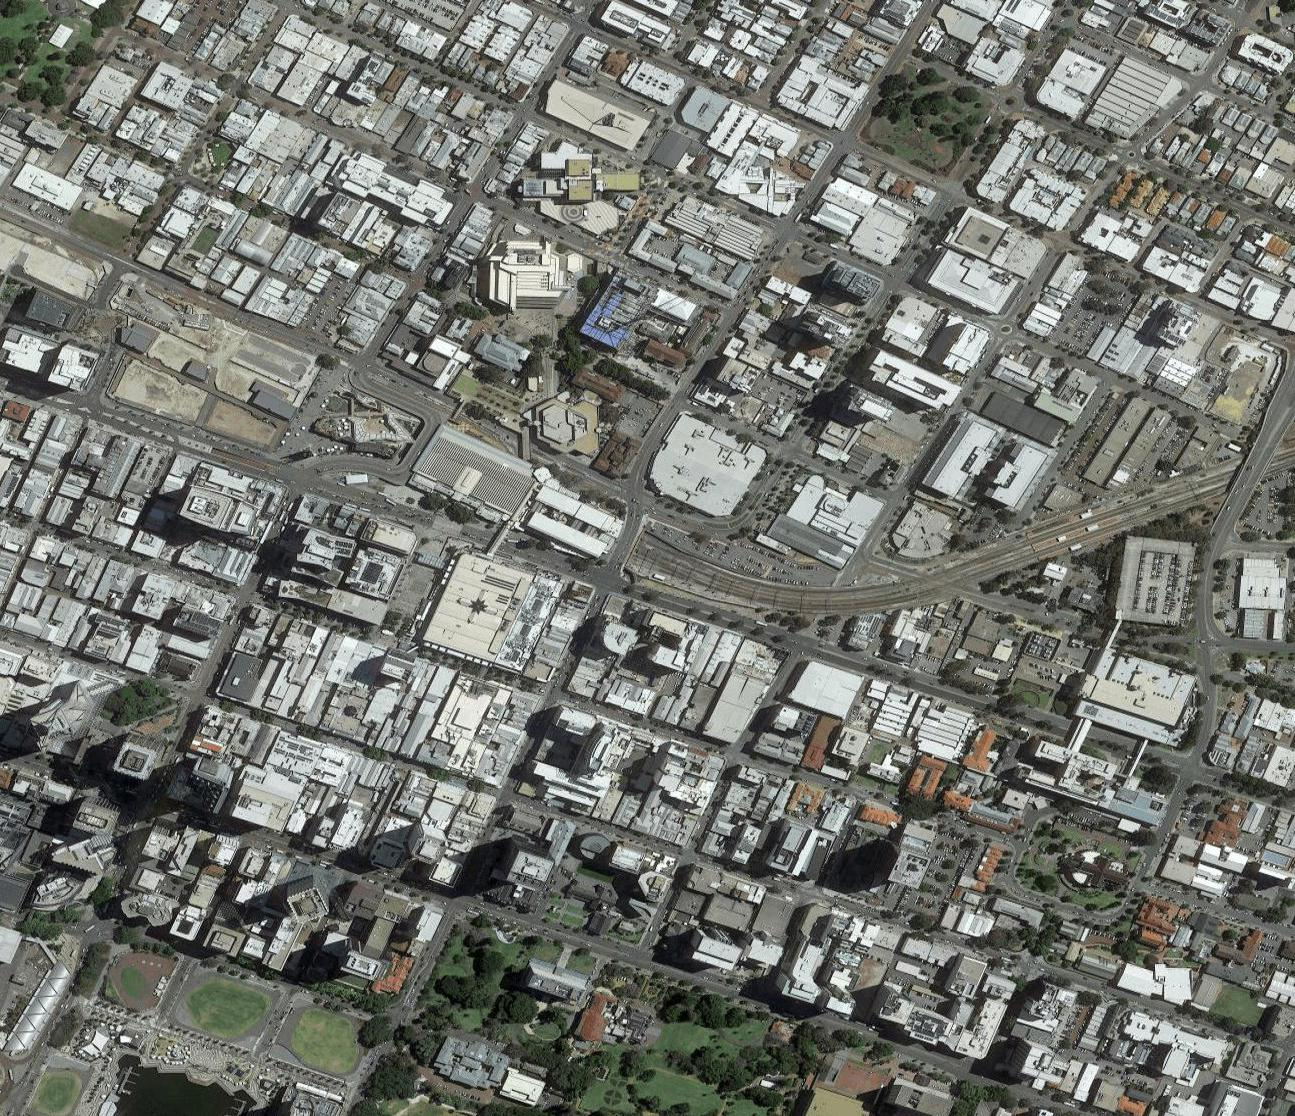bridge: (1220, 437, 1276, 503)
train_station: (516, 472, 663, 581)
